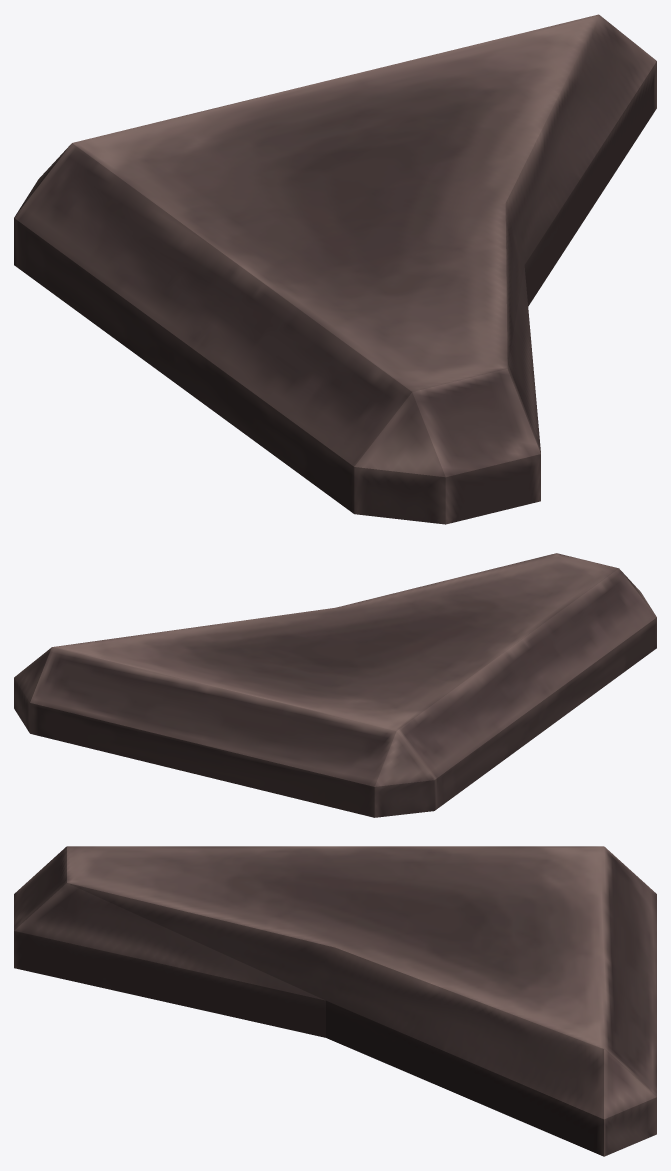
The model's file is rock_13.fbx.
3 renders of one model, top to bottom at view 1: azimuth 30°, elevation 25°; view 2: azimuth 150°, elevation 25°; view 3: azimuth 270°, elevation 25°, orthographic. The views are drawn at different scales.
Parts seen in each view (by area): view 1: rock_13; view 2: rock_13; view 3: rock_13.
Part boxes in pixels (<box>): rock_13: <box>14,14,656,524</box>; rock_13: <box>14,553,656,817</box>; rock_13: <box>14,846,656,1156</box>.
Size of the model in its own units: 0.7864 by 0.1262 by 0.8627.
